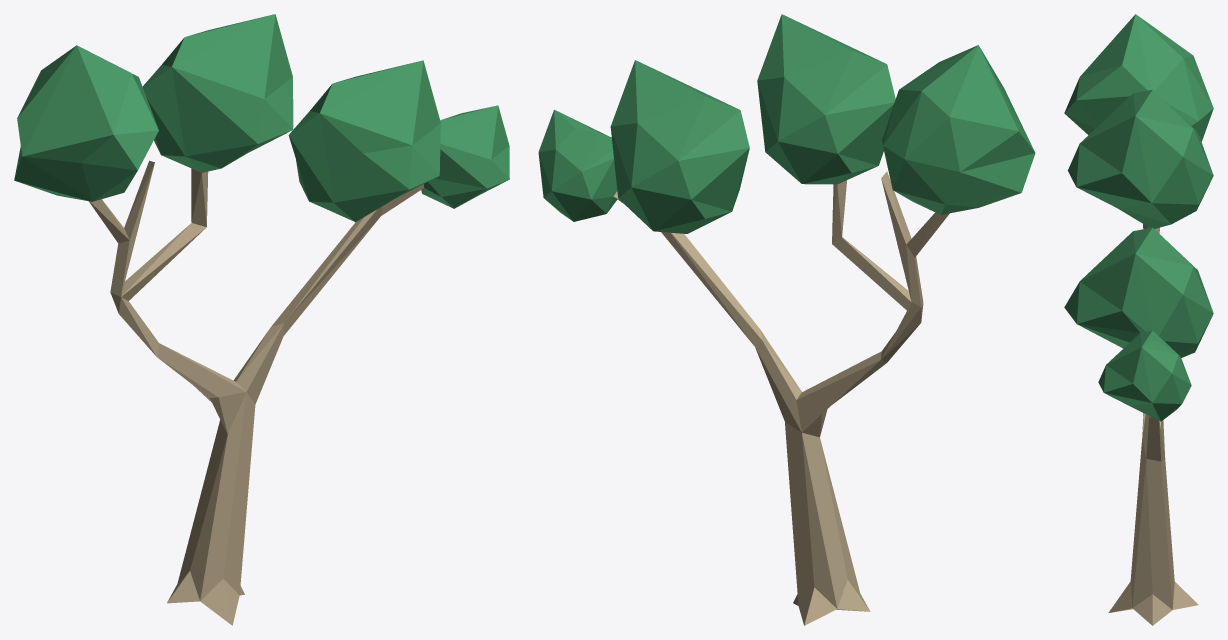
File: tree41.fbx
The picture shows the model from 3 angles, left to right: view 1: azimuth 30°, elevation 25°; view 2: azimuth 150°, elevation 25°; view 3: azimuth 270°, elevation 25°; orthographic projection. The views are drawn at different scales.
Parts seen in each view (by area): view 1: treetype41.002; view 2: treetype41.002; view 3: treetype41.002.
Boxes of the visible parts, x1,y1,x2,y2 form: treetype41.002: (14, 14, 509, 625); treetype41.002: (538, 14, 1035, 625); treetype41.002: (1064, 14, 1213, 625).
Size of the model in its own units: 188 by 222 by 55.9.
